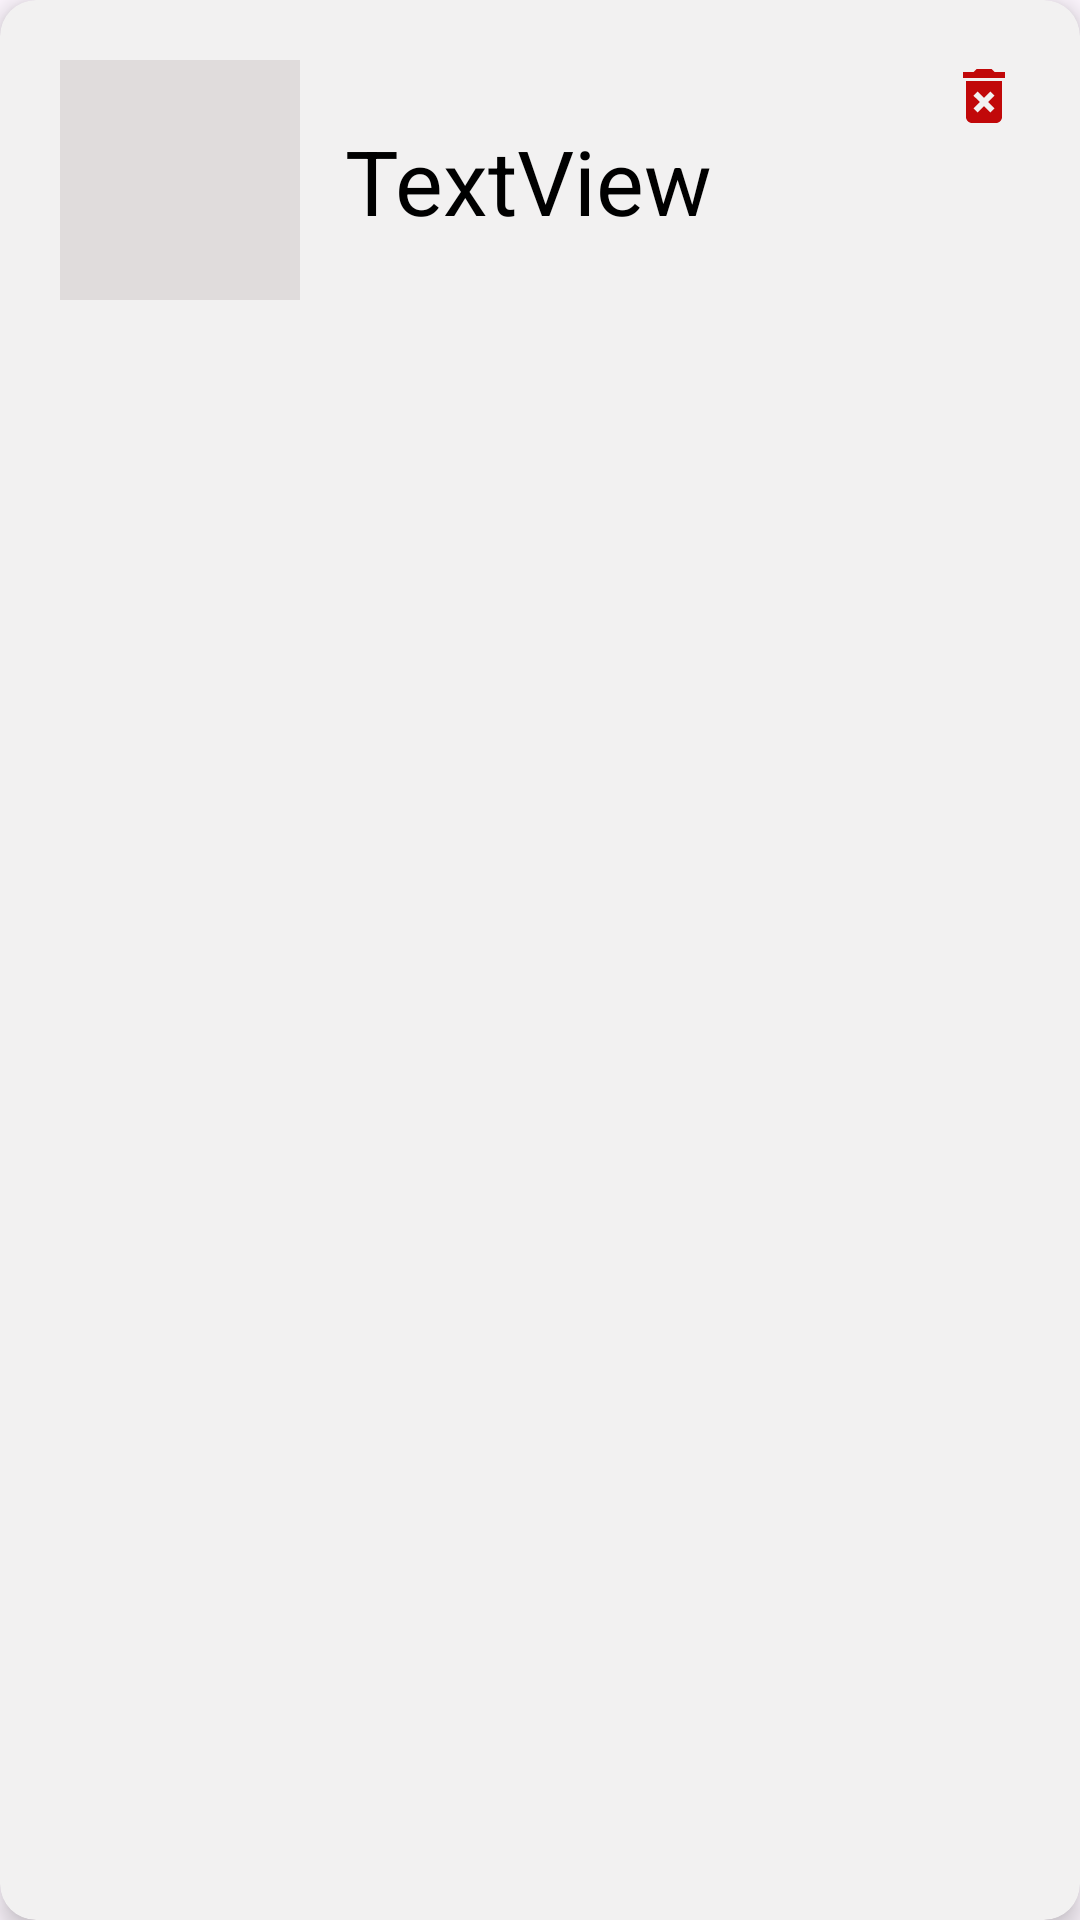

Locate icon controls on the screen. Image size 1080px x 1920px, boxes as (x1, y1, x2, y2).
delete forever: (963, 69, 1005, 123)
